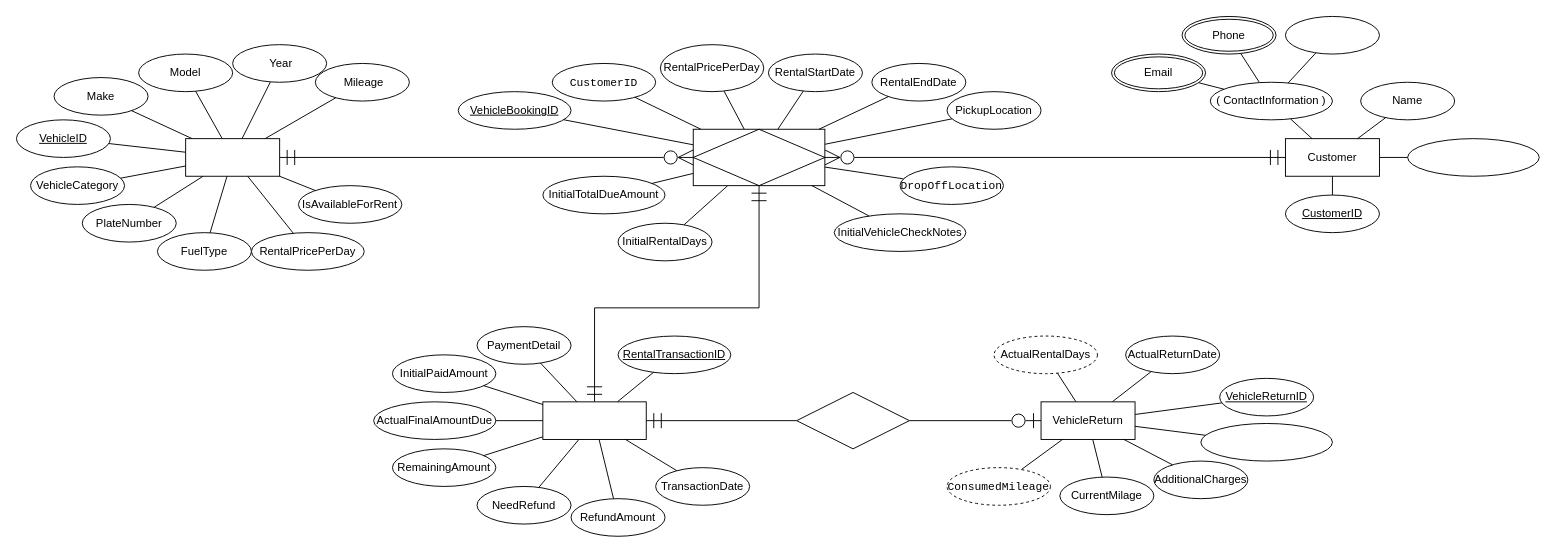
Image size: 1556x553. Some labels were removed from this diagram. Here are the shapes that lost their labels. From the top down, the centre of each, then its label:
the point at 1332,35: Address
the point at 232,157: Vehicle
the point at 758,157: VehicleBooking
the point at 1473,157: Driver'sLicenseNumber
the point at 594,420: RentalTransaction
the point at 852,420: Check
the point at 1266,442: RecordFinalCheckNotes
